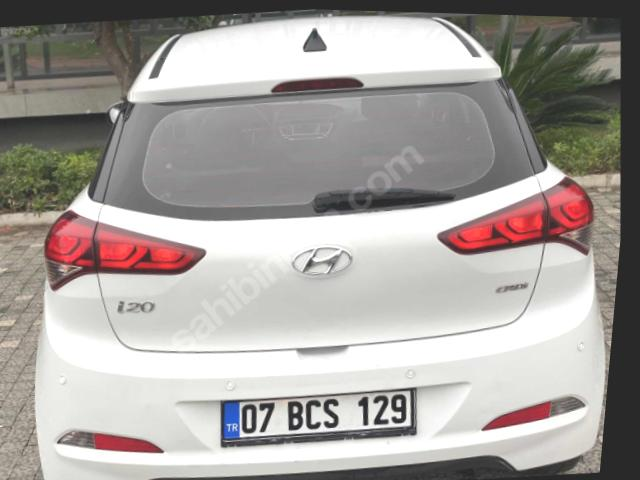plaka: (221, 388, 415, 446)
